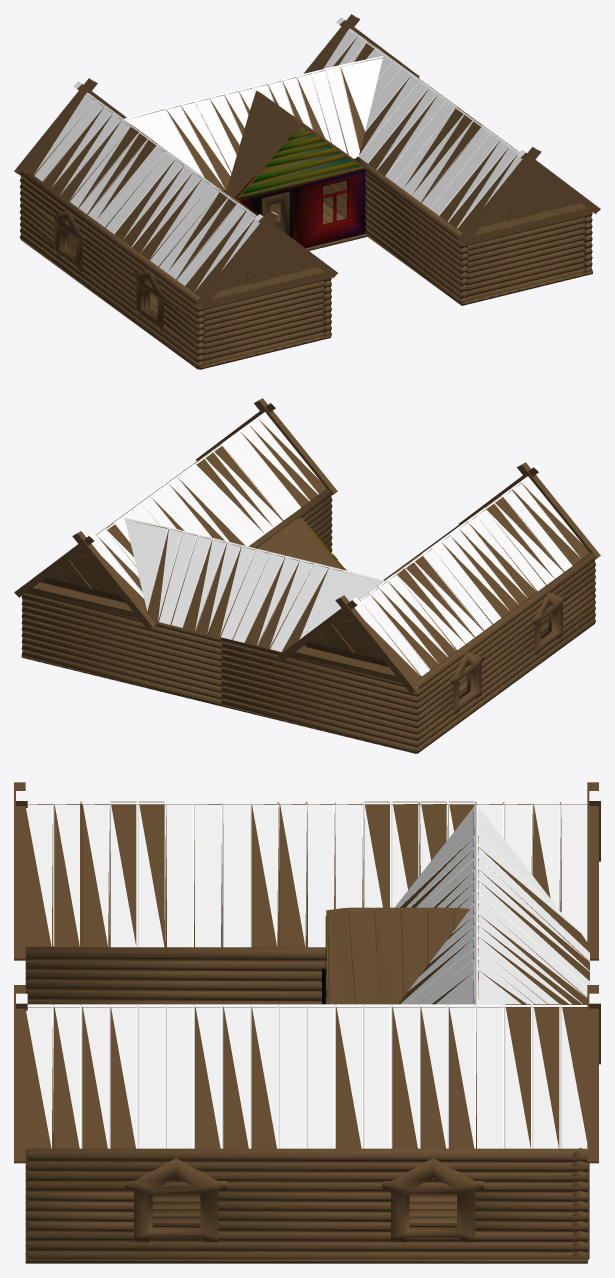
The model's file is snow_house_3.fbx.
3 views of the same model, one above another, from view 1: azimuth 30°, elevation 25°; view 2: azimuth 150°, elevation 25°; view 3: azimuth 270°, elevation 25° (orthographic). The views are drawn at different scales.
Parts seen in each view (by area): view 1: Roof_01_b.001, Roof_01_b, Roof_01_b.002, Wall_Wide_01_b, Wall_Narrow_01_a, Wall_Wide_02_b.001, Wall_Narrow_02_b.001, Wall_Narrow_02_b, Roof_01_b.003, Floor_01_c.001, Floor_01_c.002, Door_01 (+3 smaller); view 2: Roof_01_b.001, Roof_01_b, Roof_01_b.002, Wall_Wide_02_b.002, Wall_Wide_01_b, Wall_Wide_02_b.003, Roof_01_b.003, Wall_Wide_02_b.001, Floor_01_c.002; view 3: Roof_01_b, Roof_01_b.001, Wall_Wide_01_b.001, Roof_01_b.002, Wall_Wide_02_b, Roof_01_b.003, Floor_01_c.001, Wall_Wide_02_b.002.
Part boxes in pixels (x1,y1,x2,y2): Roof_01_b.001: (14, 78, 338, 308); Roof_01_b: (303, 14, 600, 244); Roof_01_b.002: (124, 56, 383, 190); Wall_Wide_01_b: (20, 169, 204, 369); Wall_Narrow_01_a: (235, 127, 365, 248); Wall_Wide_02_b.001: (354, 156, 468, 305); Wall_Narrow_02_b.001: (203, 280, 324, 364); Wall_Narrow_02_b: (467, 216, 584, 300); Roof_01_b.003: (225, 90, 365, 200); Floor_01_c.001: (323, 180, 592, 305); Floor_01_c.002: (68, 233, 330, 369); Door_01: (262, 191, 289, 235); Roof_01_b.001: (277, 462, 600, 693); Roof_01_b: (14, 398, 337, 629); Roof_01_b.002: (124, 518, 384, 652); Wall_Wide_02_b.002: (21, 592, 222, 705); Wall_Wide_01_b: (414, 553, 595, 753); Wall_Wide_02_b.003: (221, 638, 421, 753); Roof_01_b.003: (255, 517, 343, 569); Wall_Wide_02_b.001: (248, 489, 332, 552); Floor_01_c.002: (284, 616, 548, 753); Roof_01_b: (14, 985, 600, 1163); Roof_01_b.001: (14, 782, 600, 960); Wall_Wide_01_b.001: (27, 1148, 586, 1259); Roof_01_b.002: (394, 804, 589, 1004); Wall_Wide_02_b: (26, 947, 325, 1004); Roof_01_b.003: (326, 907, 469, 1004); Floor_01_c.001: (25, 1162, 587, 1263); Wall_Wide_02_b.002: (572, 1148, 589, 1260).
Bounding box in the file's own units: 1267 × 426 × 1013.
